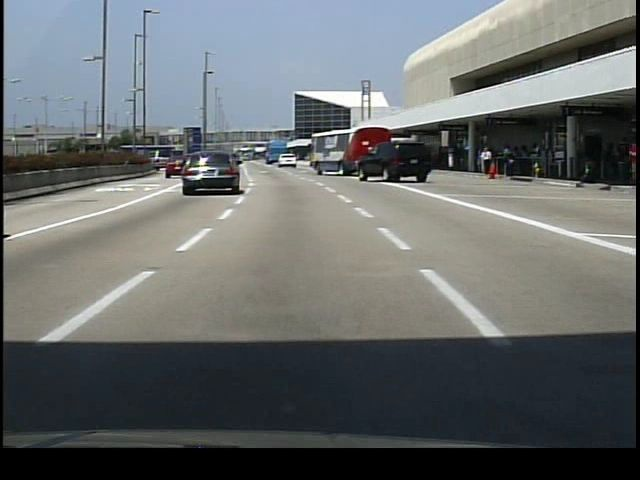person: (479, 144, 494, 180)
